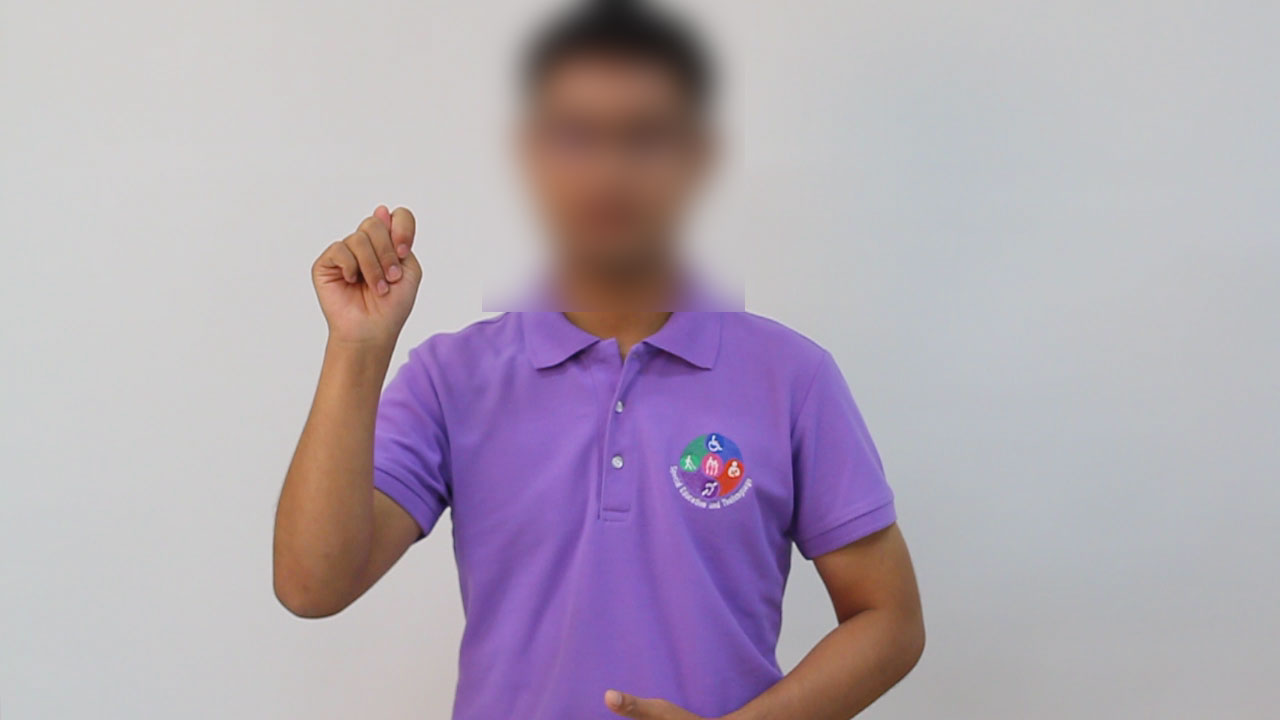tor: (301, 195, 447, 352)
